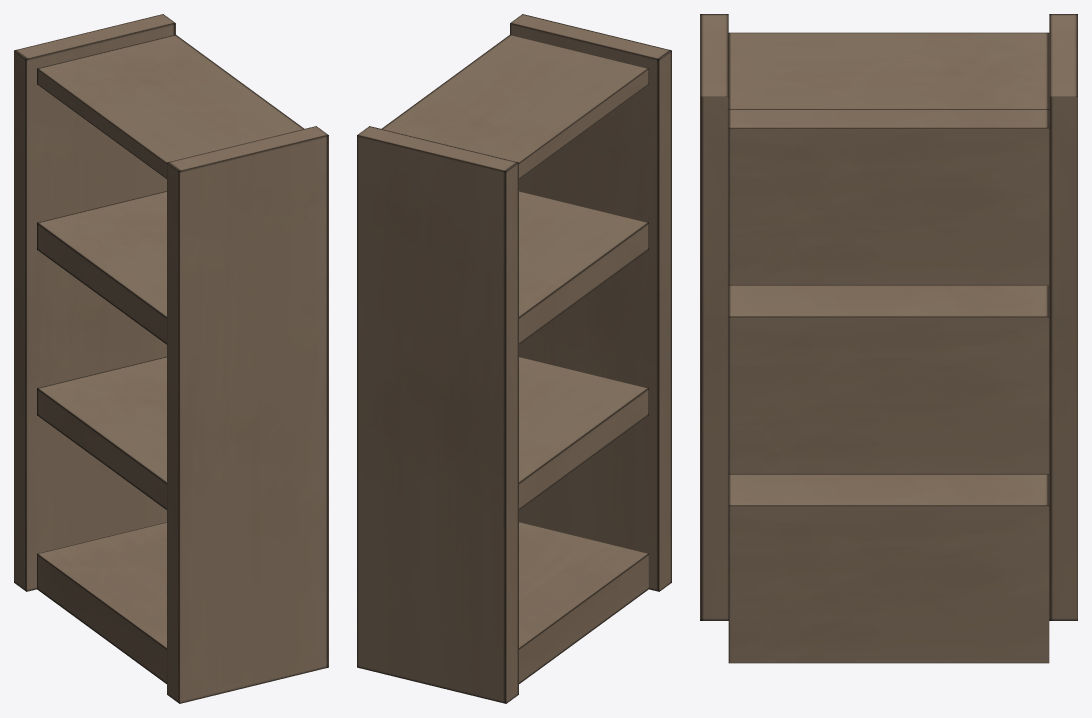
Rendered from shelf1.fbx.
3 views of the same model, side by side, from view 1: azimuth 30°, elevation 25°; view 2: azimuth 150°, elevation 25°; view 3: azimuth 270°, elevation 25° (orthographic). The views are drawn at different scales.
Parts seen in each view (by area): view 1: polySurface1415; view 2: polySurface1415; view 3: polySurface1415.
Boxes of the visible parts, x1,y1,x2,y2 form: polySurface1415: (14,14,328,703); polySurface1415: (357,14,671,703); polySurface1415: (700,14,1077,663).
Bounding box in the file's own units: 0.4196 × 1.43 × 0.8066.
